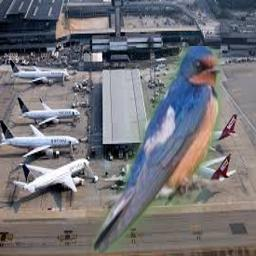Swallow: (92, 46, 222, 253)
